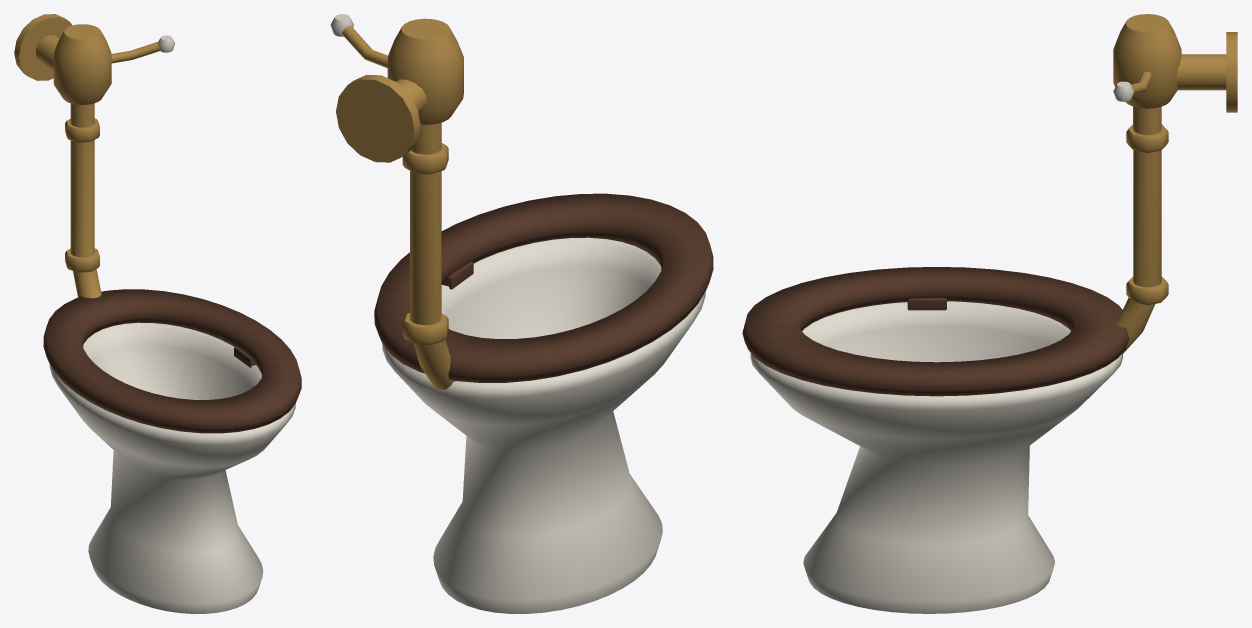
Rendered from rpg-mansion-tankless-flushometer-wc-01.glb.
3 renders of one model, left to right at view 1: azimuth 30°, elevation 25°; view 2: azimuth 150°, elevation 25°; view 3: azimuth 270°, elevation 25°, orthographic. The views are drawn at different scales.
Parts seen in each view (by area): view 1: rpg-mansion-tankless-flushometer-wc-01; view 2: rpg-mansion-tankless-flushometer-wc-01; view 3: rpg-mansion-tankless-flushometer-wc-01.
Boxes of the visible parts, <box> form: rpg-mansion-tankless-flushometer-wc-01: <box>14,14,301,613</box>; rpg-mansion-tankless-flushometer-wc-01: <box>330,14,713,613</box>; rpg-mansion-tankless-flushometer-wc-01: <box>742,14,1237,613</box>.
Size of the model in its own units: 0.432 by 0.982 by 0.7965.
